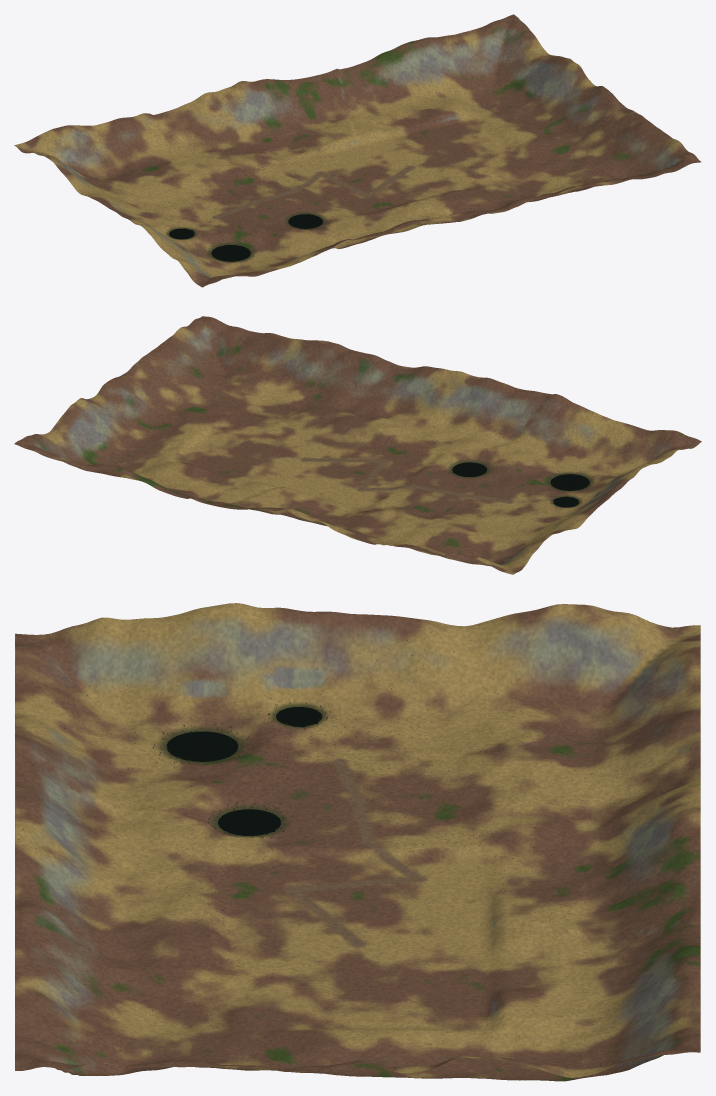
The model's file is SM_Art_Terrain_L_FalseBearings.gltf.
3 views of the same model, one above another, from view 1: azimuth 30°, elevation 25°; view 2: azimuth 150°, elevation 25°; view 3: azimuth 270°, elevation 25° (orthographic). The views are drawn at different scales.
Parts seen in each view (by area): view 1: SM_Art_Terrain_L_FalseBearings; view 2: SM_Art_Terrain_L_FalseBearings; view 3: SM_Art_Terrain_L_FalseBearings.
Boxes of the visible parts, x1=… form: SM_Art_Terrain_L_FalseBearings: x1=14, y1=14, x2=701, y2=287; SM_Art_Terrain_L_FalseBearings: x1=14, y1=316, x2=701, y2=574; SM_Art_Terrain_L_FalseBearings: x1=15, y1=603, x2=700, y2=1081.
Size of the model in its own units: 295 by 23.74 by 193.
Materials: 6 (5 with a texture image).
